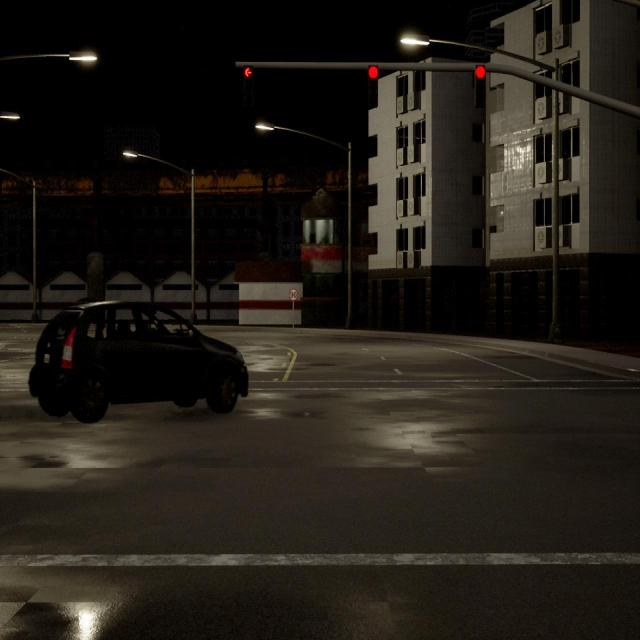Traffic_Signs: (290, 289, 298, 300)
Vehicle: (27, 298, 249, 424)
traffic_light: (475, 65, 486, 107), (368, 65, 378, 108), (243, 65, 252, 102)
